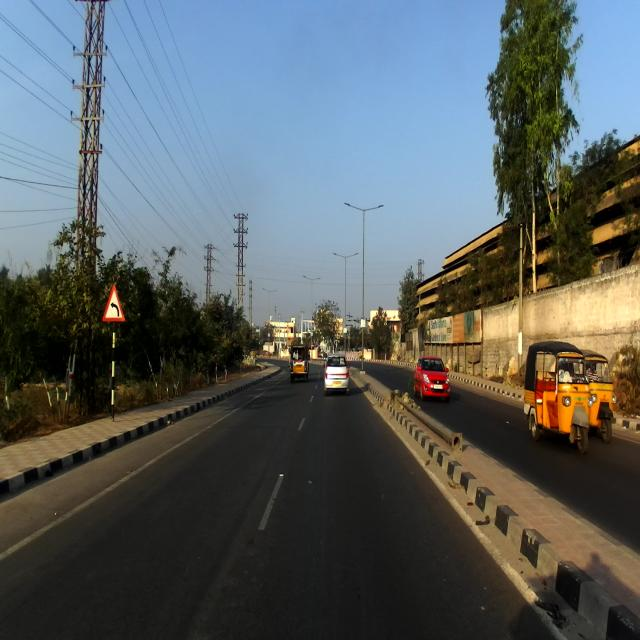auto ahead at: (521, 338, 595, 450)
car ahead at: (322, 350, 352, 402)
sign board ahead at: (98, 283, 129, 328)
